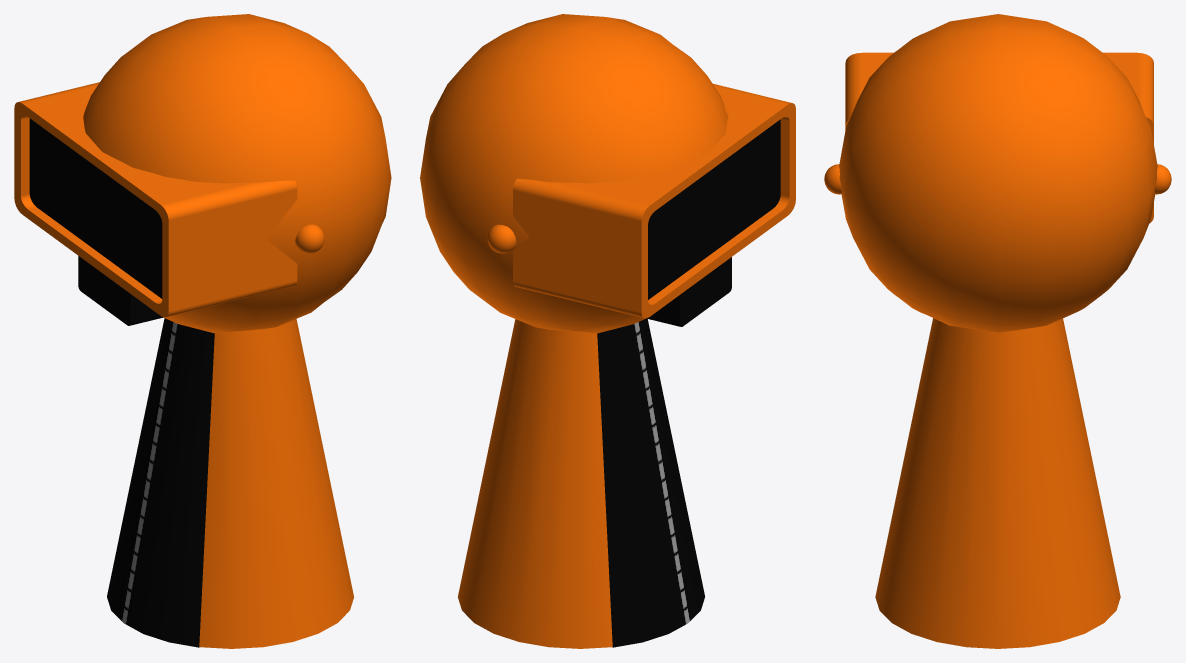
The picture shows the model from 3 angles, left to right: view 1: azimuth 30°, elevation 25°; view 2: azimuth 150°, elevation 25°; view 3: azimuth 270°, elevation 25°; orthographic projection.
Parts seen in each view (by area): view 1: Union1, Meshesuntitled1, Union4, Meshesuntitled2, Union2, Union3, Part1; view 2: Union1, Meshesuntitled1, Union4, Meshesuntitled2, Union2, Union3, Part2; view 3: Union1, Meshesuntitled1, Union4.
Part boxes in pixels (x1,y1,x2,y2): Union1: (83,14,391,333); Meshesuntitled1: (199,319,353,648); Union4: (14,82,297,317); Meshesuntitled2: (107,318,214,647); Union2: (29,118,162,298); Union3: (78,256,163,325); Part1: (295,224,324,253); Union1: (420,14,728,333); Meshesuntitled1: (458,319,612,648); Union4: (513,84,795,318); Meshesuntitled2: (597,318,704,647); Union2: (648,119,780,299); Union3: (646,257,731,326); Part2: (487,224,516,253); Union1: (839,14,1157,332); Meshesuntitled1: (875,318,1120,648); Union4: (845,52,1153,223).
Size of the model in its own units: 3.14 by 6.14 by 3.4.
Materials: 3 (1 with a texture image).
